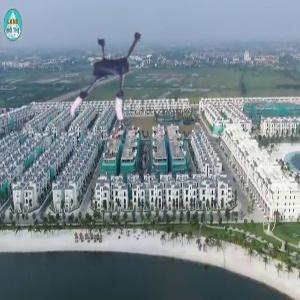drone: (59, 26, 167, 134)
